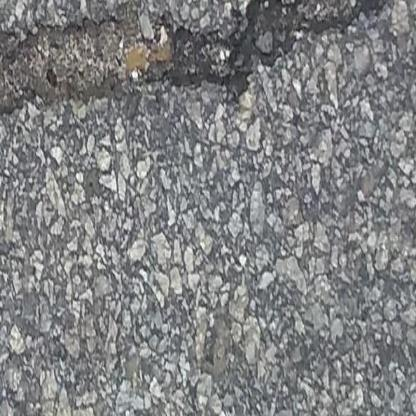Cracks: (0, 0, 408, 125)
